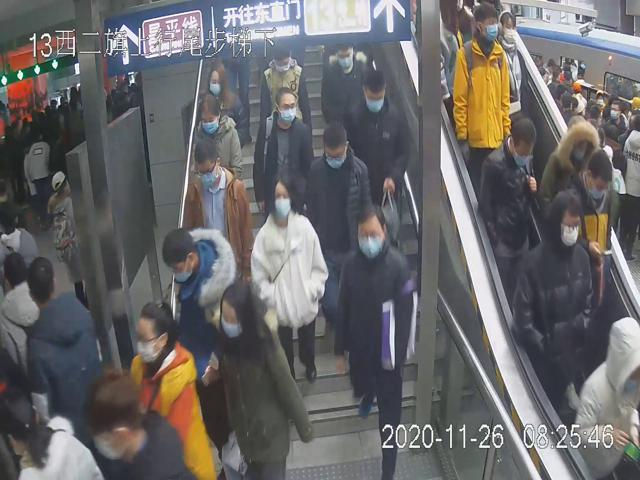person: (331, 200, 417, 480), (205, 276, 316, 480), (511, 189, 597, 390), (250, 171, 327, 390), (161, 225, 237, 421), (341, 66, 412, 244), (453, 0, 513, 173), (182, 136, 254, 277), (307, 121, 373, 262), (478, 111, 536, 266), (251, 81, 314, 220), (186, 89, 243, 188), (255, 43, 311, 131), (316, 37, 370, 128), (190, 57, 244, 138)
